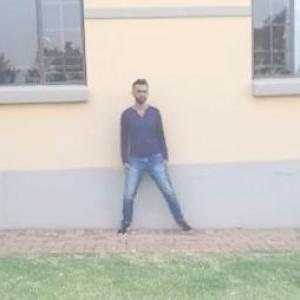follow: (120, 75, 167, 238)
